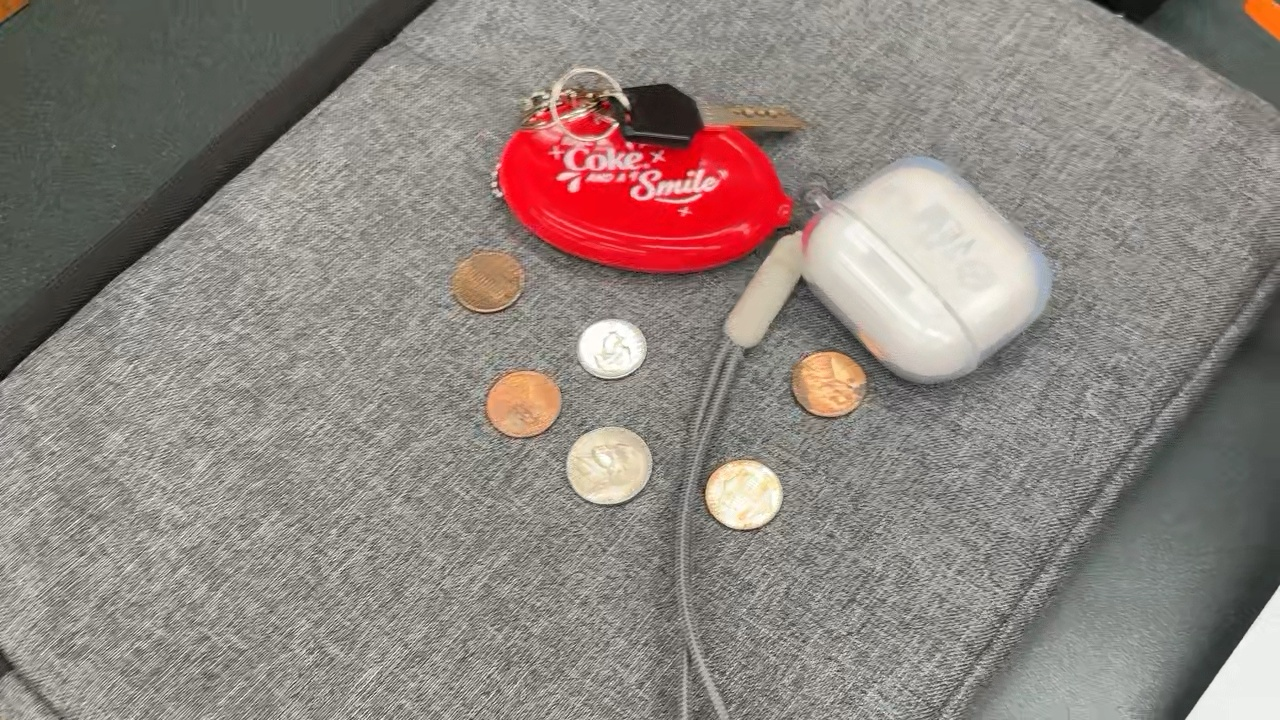dime: (577, 315, 647, 379)
nickle: (566, 426, 657, 504)
penny: (784, 348, 872, 421), (703, 459, 784, 529), (484, 369, 566, 437), (451, 248, 528, 315)
